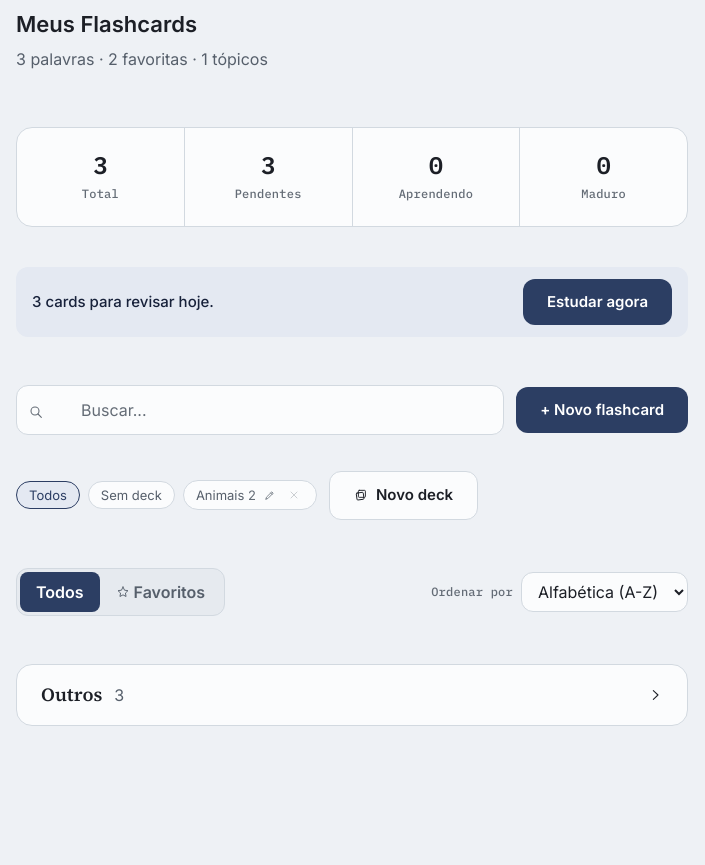
Test case: MyFlashcards - content survives narrow layouts (U4) › still combines search, favorites and deck filters correctly
Click the button "Favoritos": coordinates (160, 592) [100, 572, 221, 612]
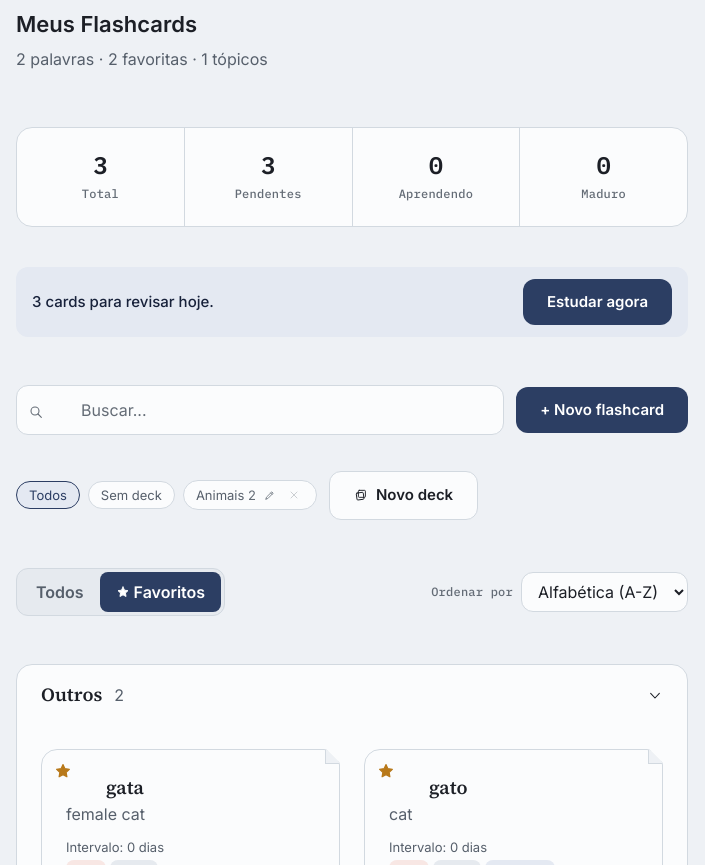
Click the button "Animais 2": coordinates (226, 495) [196, 486, 256, 504]
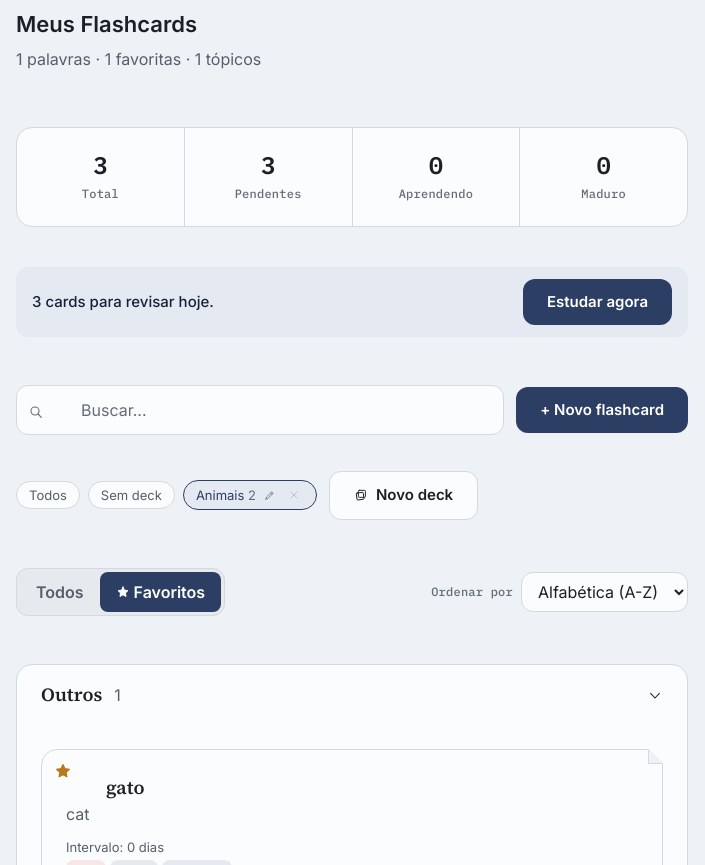
expect the heading "gato" is shown: met, box [106, 775, 145, 800]
expect the heading "gata" is gone: met
